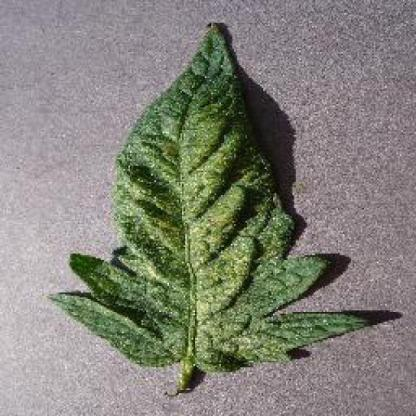Tomato_Spider_Mites: (49, 22, 371, 363)
